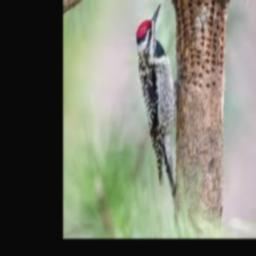Woodpecker: (137, 2, 178, 201)
